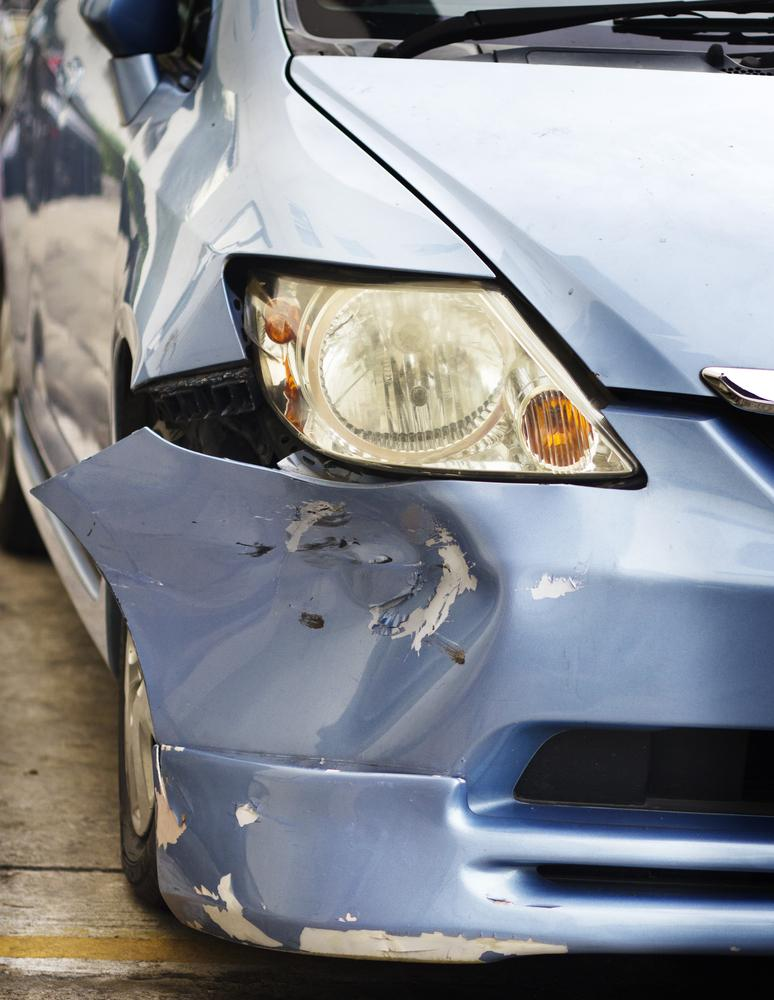dent: (222, 477, 505, 755)
scratch: (158, 781, 574, 966)
